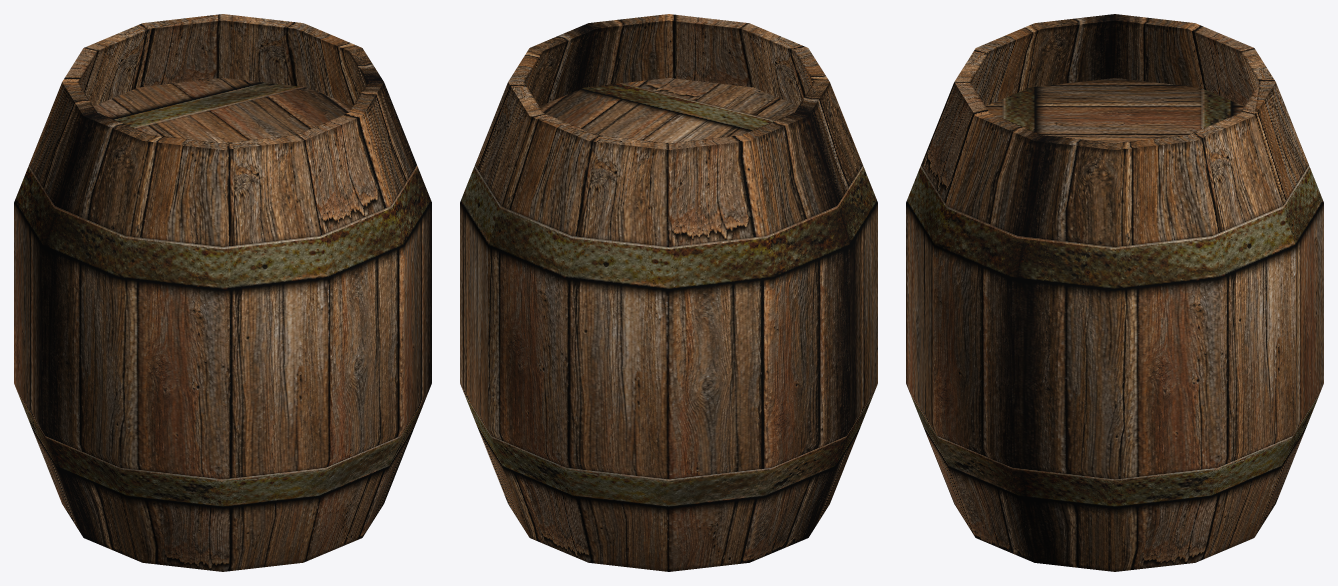
Rendered from mm9_deco_barrel03.glb.
3 renders of one model, left to right at view 1: azimuth 30°, elevation 25°; view 2: azimuth 150°, elevation 25°; view 3: azimuth 270°, elevation 25°, orthographic.
Parts seen in each view (by area): view 1: Barrel03; view 2: Barrel03; view 3: Barrel03.
Part boxes in pixels (left/top/right/bottom): Barrel03: left=14, top=14, right=431, bottom=571; Barrel03: left=460, top=14, right=877, bottom=571; Barrel03: left=906, top=14, right=1323, bottom=571.
Bounding box in the file's own units: 0.8999 × 1 × 0.9001.
1 material, 1 textured.
